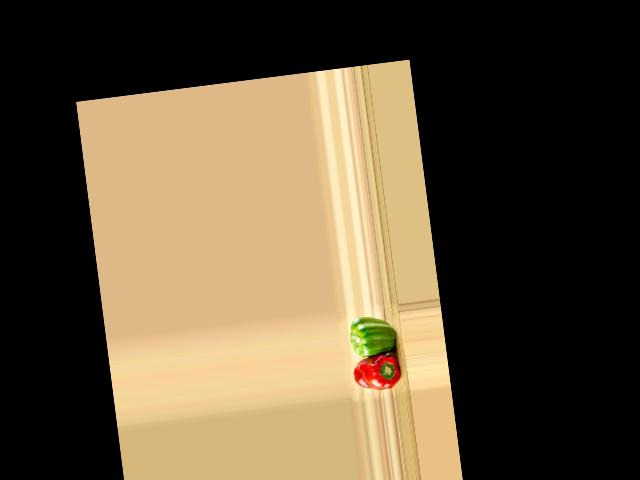bell_pepper: (351, 350, 402, 394)
